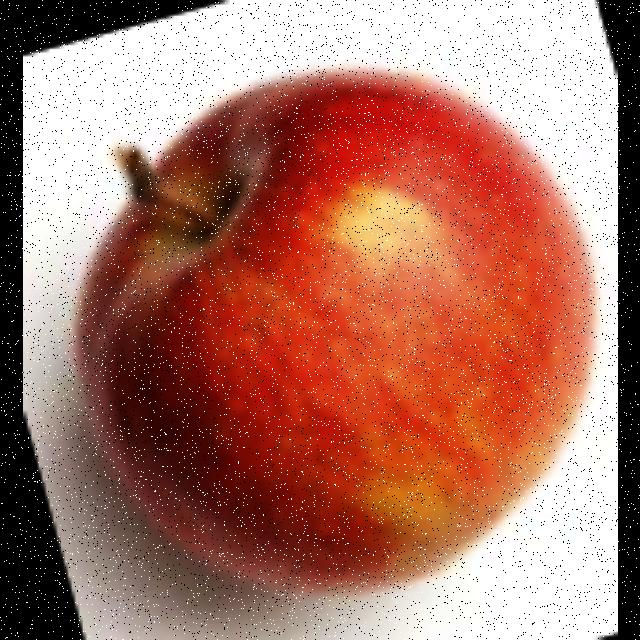Apel Segar: (58, 58, 610, 602)
